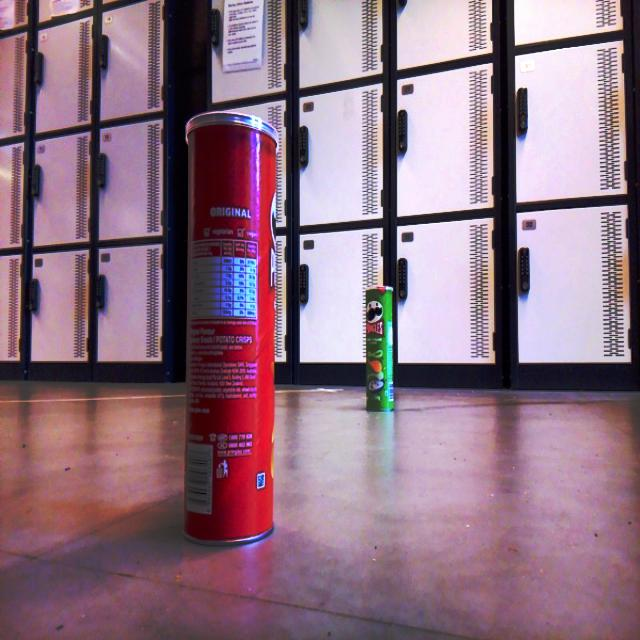greenpringles: (362, 281, 400, 417)
redpringles: (165, 95, 292, 559)
